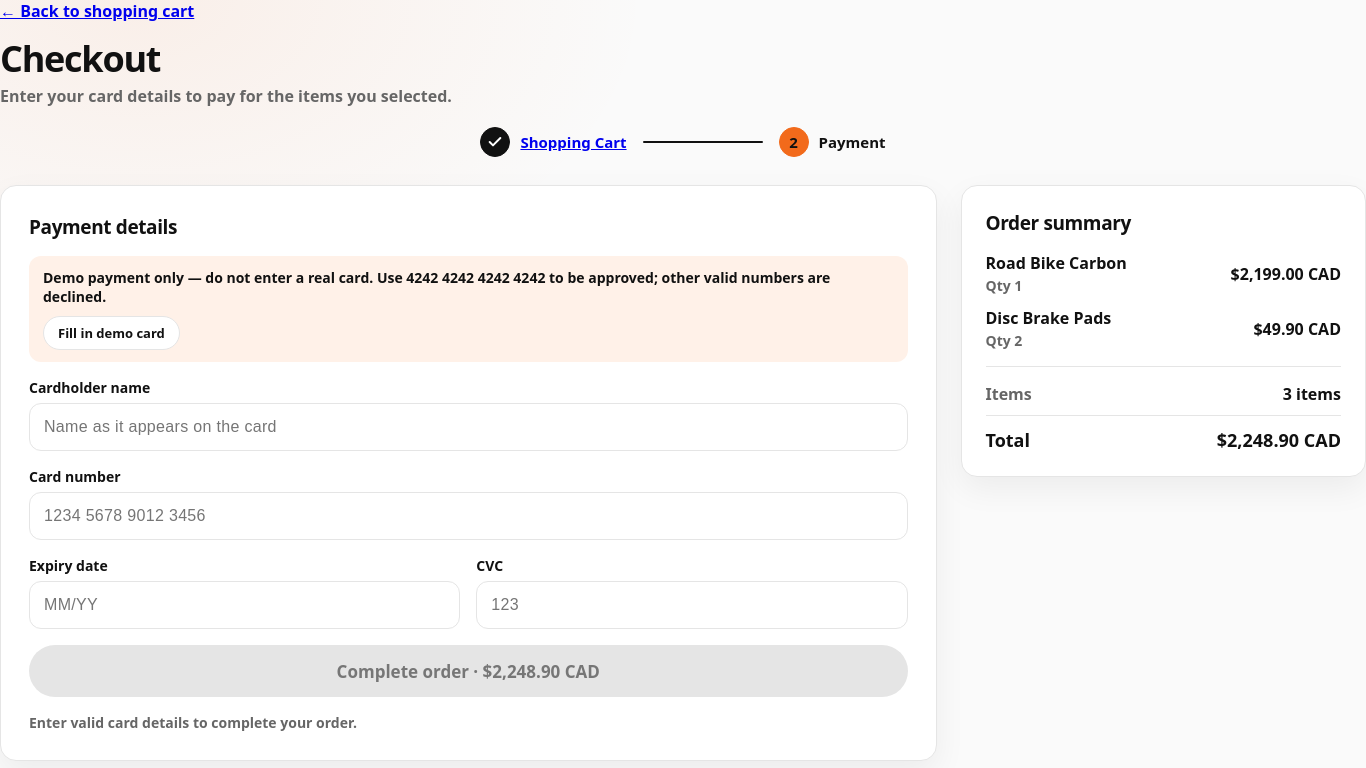
Test: CheckoutPage › fills in the approved demo card in one click
Expected: the element "Order summary" is shown, [960,185,1365,477]
Step 1. Click the button "Fill in demo card" → x=111, y=333, box [43,316,180,350]
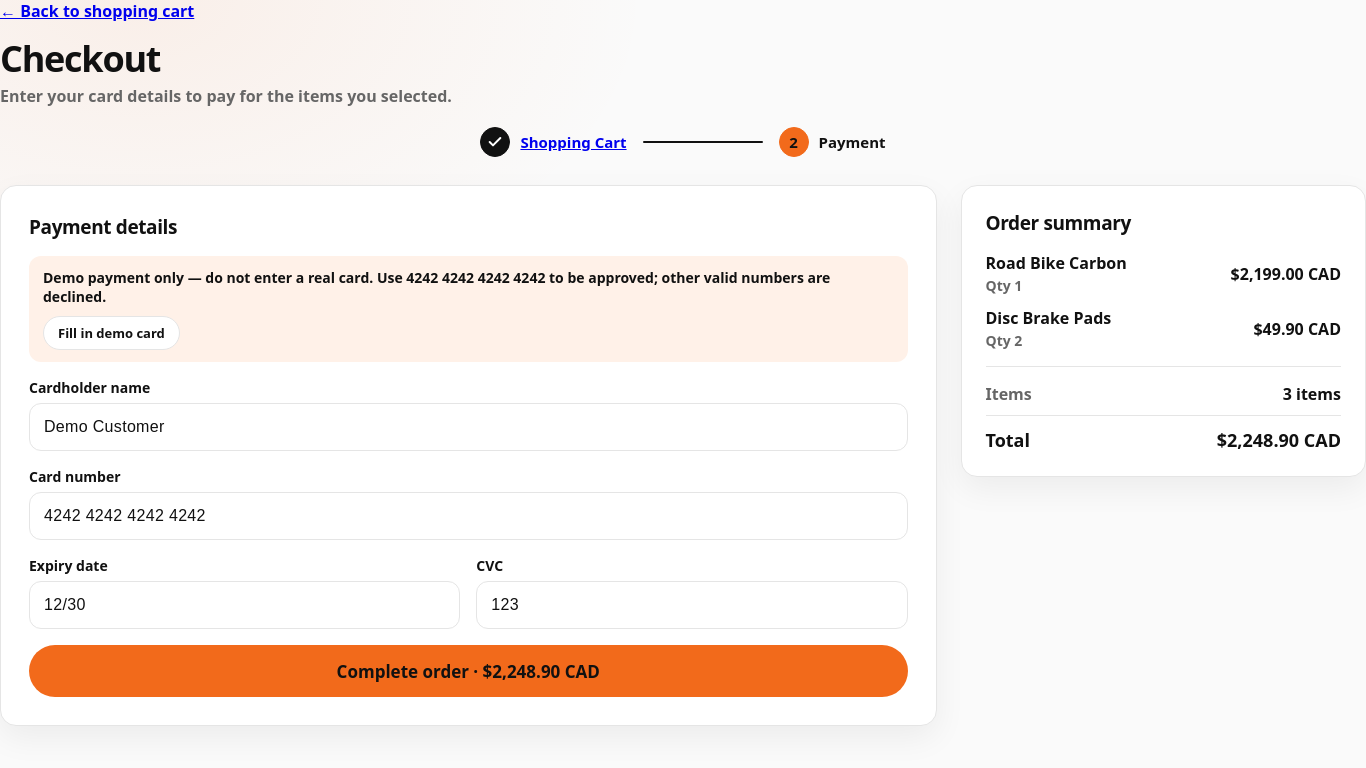
Step 2. Click the button "Complete order · $2,248.90 CAD" → x=468, y=671, box [29,645,908,697]
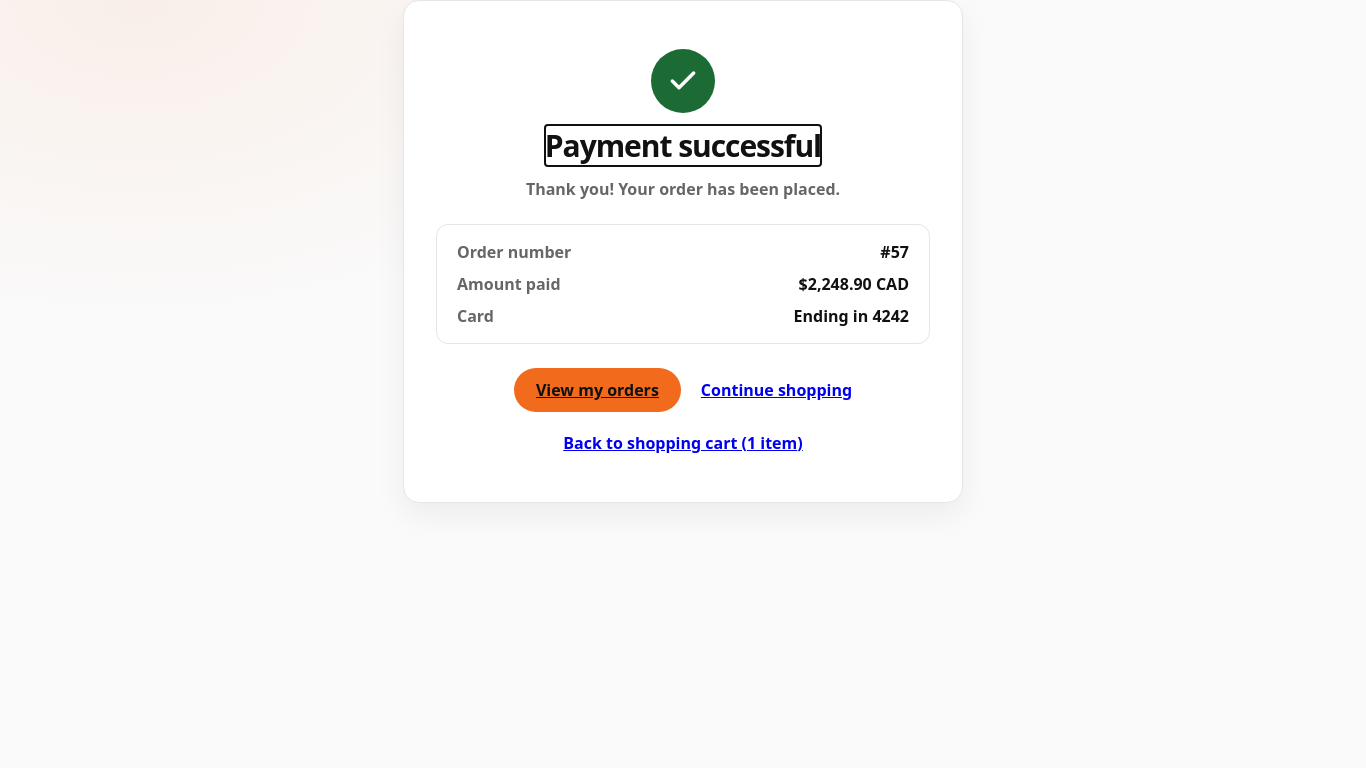
Now the heading "Payment successful" is shown, box [545,125,821,166]
